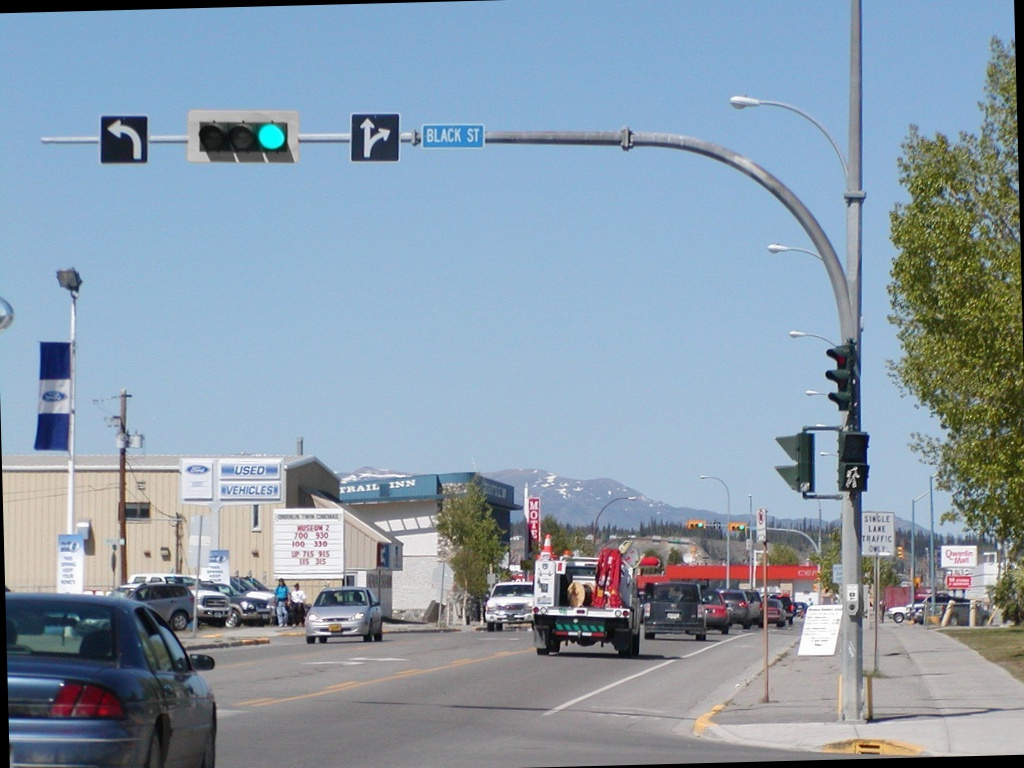traffic_light: (196, 119, 291, 155)
